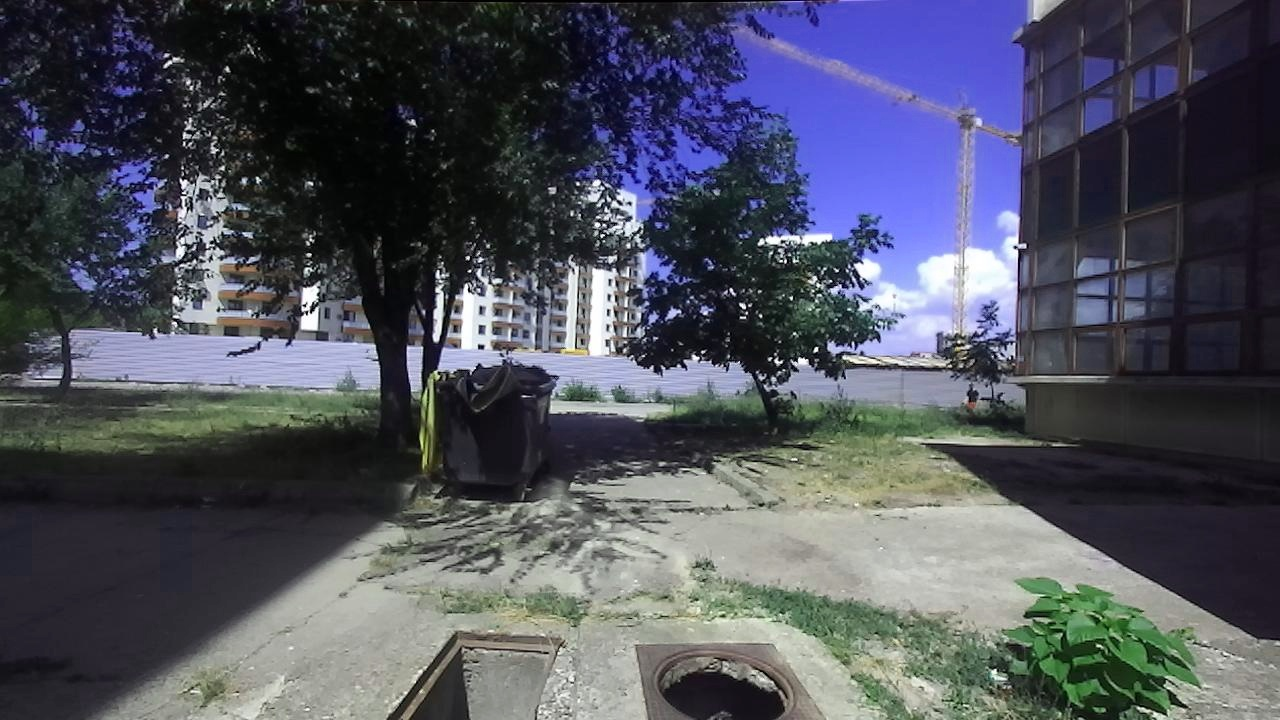drain: (386, 627, 566, 719), (647, 643, 803, 719)
